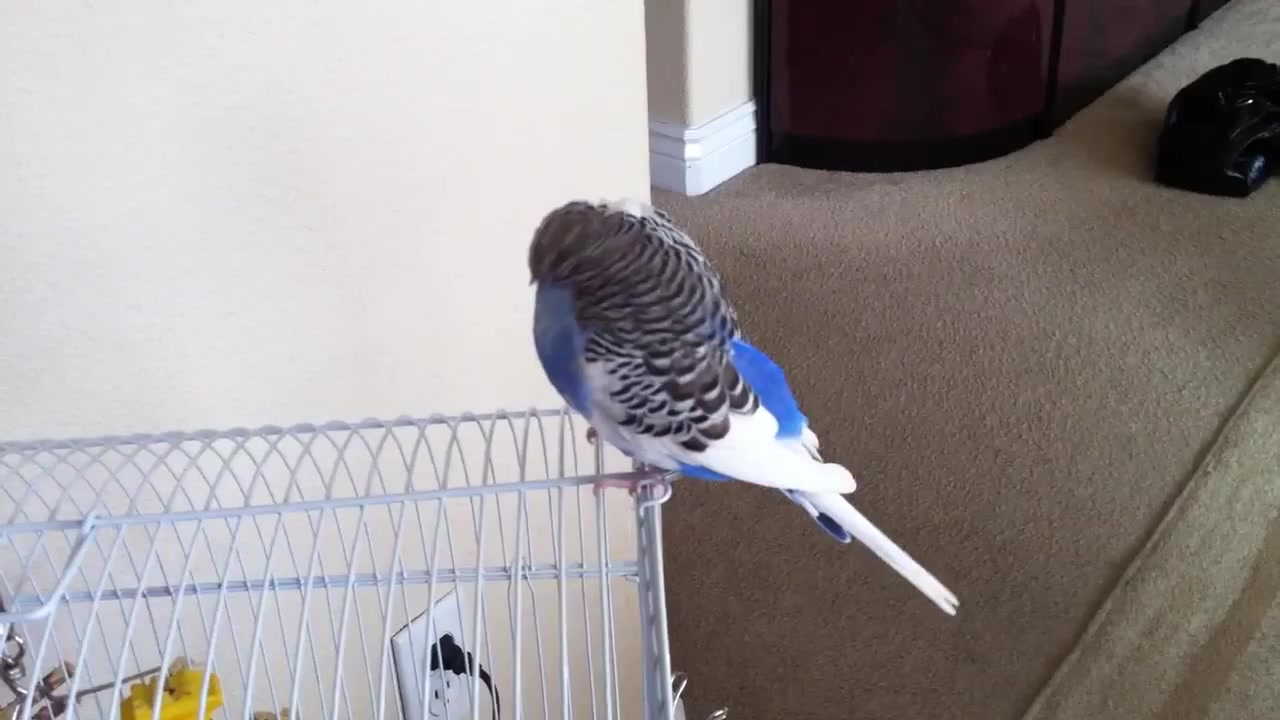bird: (530, 199, 962, 618)
